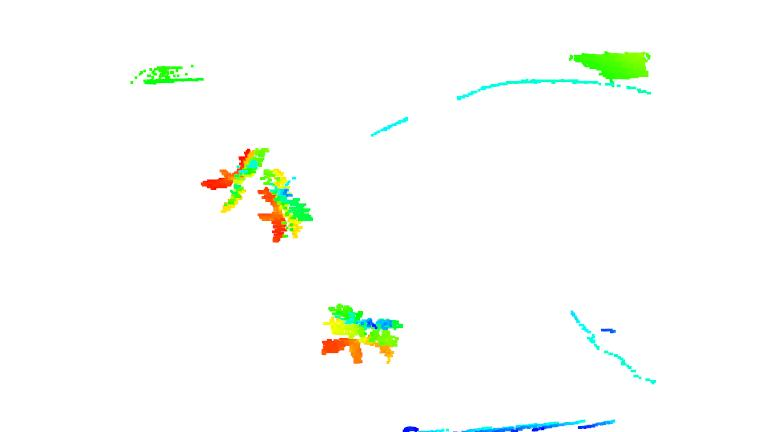chickpea: (317, 306, 403, 370), (201, 143, 269, 214), (259, 168, 314, 249)
